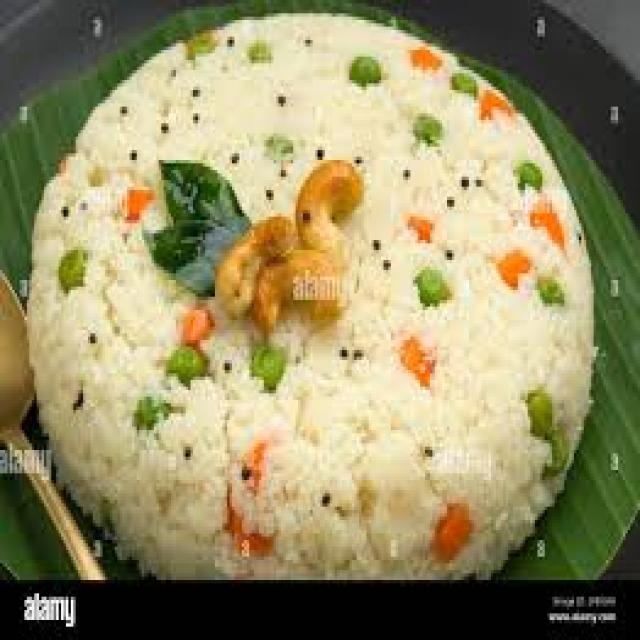UPMA: (24, 7, 596, 567)
